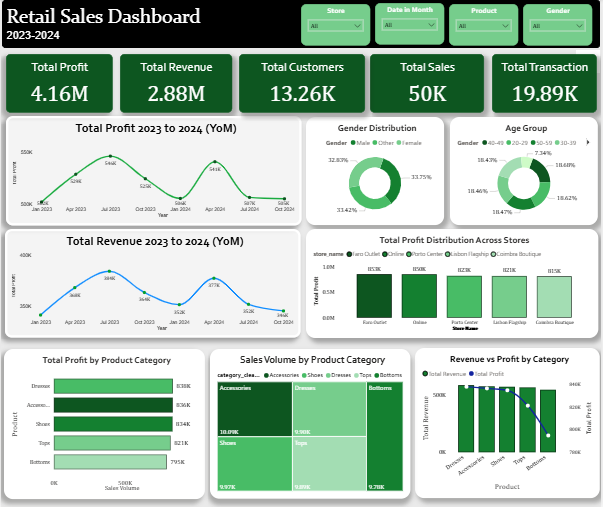

The page's visual inventory and layout, read from the dashboard file:
{"tool":"powerbi","page":{"name":"Page 1","canvas":[1300,1100],"ordinal":0},"visuals":[{"type":"textbox","box":[0,0,1300,108],"z":0},{"type":"card","title":"Total Profit","fields":{"Values":["_measure.total_profit"]},"box":[12,118,338,128],"z":1000},{"type":"card","title":"Total Revenue","fields":{"Values":["_measure.Total Revenue"]},"box":[382,118,264,128],"z":2000},{"type":"card","title":"Total Sold","fields":{"Values":["Sum(dim_sales.quantity)"]},"box":[668,118,272,128],"z":3000},{"type":"card","title":"Total Transaction","fields":{"Values":["Count(dim_sales.transaction_id)"]},"box":[970,118,320,128],"z":4000},{"type":"lineChart","title":"Total Profit 2023 to 2024 (YoM)","fields":{"Category":["Dim_date.Date.Variation.Date Hierarchy.Year","Dim_date.Date.Variation.Date Hierarchy.Quarter"],"Y":["_measure.total_profit"]},"box":[10,253.3,640,236.7],"z":5000},{"type":"donutChart","title":"Gender Distribution","fields":{"Category":["dim_customer.gender_cleaned"],"Y":["Count(dim_customer.customer_id)"]},"box":[661.4,255.7,298.6,234.3],"z":6000},{"type":"lineChart","title":"Total Revenue 2023 to 2024 (YoM)","fields":{"Category":["Dim_date.Date.Variation.Date Hierarchy.Year","Dim_date.Date.Variation.Date Hierarchy.Quarter"],"Y":["_measure.Total Revenue"]},"box":[8.3,498.3,640,235],"z":7000},{"type":"donutChart","title":"Age Group","fields":{"Y":["Count(dim_customer.customer_id)"],"Category":["dim_customer.age_group"]},"box":[972.9,255.7,320,234.3],"z":8000},{"type":"columnChart","title":"Total Profit Distribution Across Stores","fields":{"Category":["dim_store.store_name"],"Y":["_measure.total_profit"],"Series":["dim_store.store_name"]},"box":[661.4,498.6,632.9,235.7],"z":9000},{"type":"barChart","title":"Total Profit by Product Category","fields":{"Y":["_measure.total_profit"],"Category":["dim_product.category_cleaned"]},"box":[7.5,757.5,435,325],"z":9001},{"type":"lineStackedColumnComboChart","title":"Revenue vs Profit by Category","fields":{"Category":["dim_product.category_cleaned"],"Y":["_measure.Total Revenue"],"Y2":["_measure.total_profit"]},"box":[896.7,756.7,400,325],"z":9002},{"type":"treemap","title":"Sales Volume by Product Category","fields":{"Group":["dim_product.category_cleaned"],"Values":["Sum(dim_sales.quantity)"]},"box":[455,758.3,435,325],"z":9003},{"type":"slicer","title":"Store ","fields":{"Values":["dim_store.store_name"]},"box":[648.6,10,150,90],"z":9004},{"type":"slicer","title":"Date in Month","fields":{"Values":["Dim_date.Date.Variation.Date Hierarchy.Month"]},"box":[810,8.6,150,90],"z":9005},{"type":"slicer","title":"Product","fields":{"Values":["dim_product.category_cleaned"]},"box":[970,10,150,90],"z":9006},{"type":"slicer","title":"Gender","fields":{"Values":["dim_customer.gender_cleaned"]},"box":[1130,10,150,90],"z":9007}]}

Visuals, with their boxes in screenshot pixels (x1, y1, x2, y2), scaled from the page's 1300x1100 canvas onto the 603x507 screenshot:
textbox: [0,0,602,50]
"Total Profit" card: [6,54,162,113]
"Total Revenue" card: [177,54,300,113]
"Total Sold" card: [310,54,436,113]
"Total Transaction" card: [450,54,598,113]
"Total Profit 2023 to 2024 (YoM)" lineChart: [5,117,302,226]
"Gender Distribution" donutChart: [307,118,445,226]
"Total Revenue 2023 to 2024 (YoM)" lineChart: [4,230,301,338]
"Age Group" donutChart: [451,118,600,226]
"Total Profit Distribution Across Stores" columnChart: [307,230,600,338]
"Total Profit by Product Category" barChart: [3,349,205,499]
"Revenue vs Profit by Category" lineStackedColumnComboChart: [416,349,601,499]
"Sales Volume by Product Category" treemap: [211,350,413,499]
"Store " slicer: [301,5,370,46]
"Date in Month" slicer: [376,4,445,45]
"Product" slicer: [450,5,520,46]
"Gender" slicer: [524,5,594,46]
